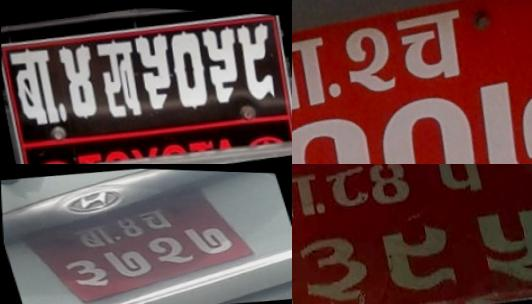0: (367, 81, 487, 164), (166, 23, 213, 110)
1: (292, 103, 387, 164)
2: (334, 17, 405, 99), (144, 232, 198, 270)
3: (294, 228, 370, 304), (58, 252, 113, 294)
4: (53, 37, 105, 123), (365, 164, 411, 206), (114, 213, 146, 240)
5: (473, 199, 532, 287), (198, 18, 248, 107), (131, 27, 181, 115)
7: (470, 60, 532, 164), (180, 215, 242, 256), (100, 245, 156, 281)
8: (323, 164, 370, 207)
9: (376, 216, 458, 295), (232, 12, 284, 104)
ba: (5, 42, 65, 132), (292, 27, 346, 123), (292, 166, 324, 229), (69, 222, 114, 250)
cha: (391, 0, 474, 84), (135, 204, 179, 236)
kha: (92, 31, 146, 124)
pa: (429, 164, 483, 194)
